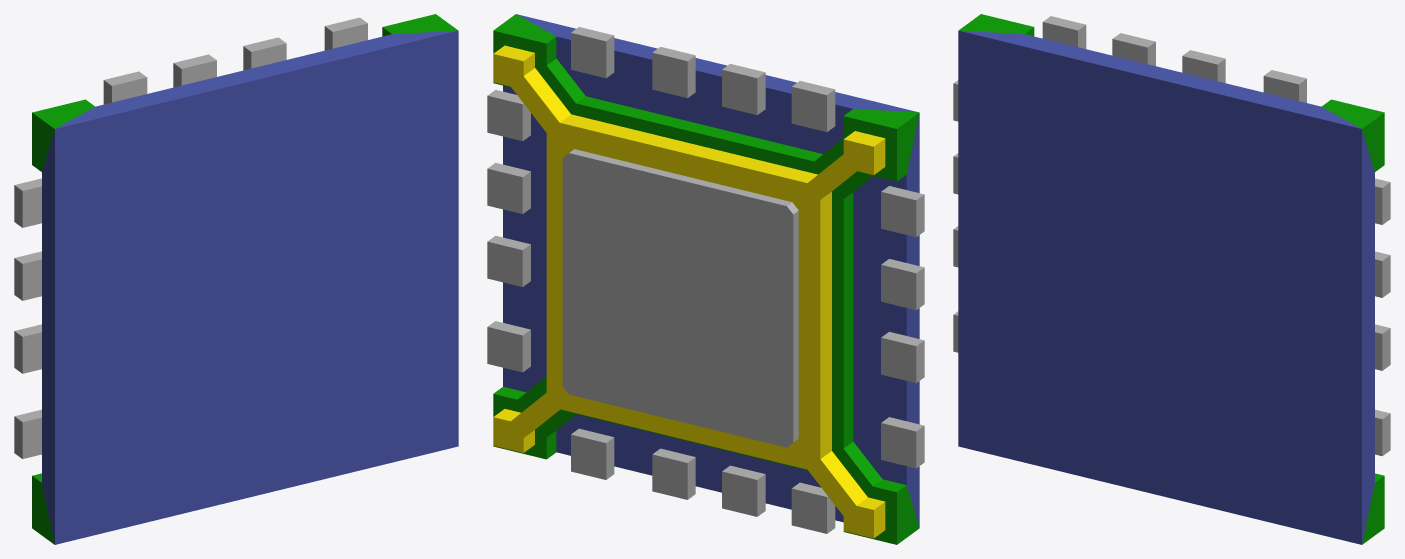
File: Transistor_02.fbx
3 views of the same model, side by side, from view 1: azimuth 30°, elevation 25°; view 2: azimuth 150°, elevation 25°; view 3: azimuth 330°, elevation 25° (orthographic).
Visible parts, largest first — view 1: Transistor_02; view 2: Transistor_02; view 3: Transistor_02.
Part boxes in pixels (x1=…): Transistor_02: x1=14, y1=14, x2=458, y2=544; Transistor_02: x1=487, y1=14, x2=924, y2=544; Transistor_02: x1=953, y1=14, x2=1390, y2=544.
Size of the model in its own units: 9.13 by 8.93 by 1.47.
